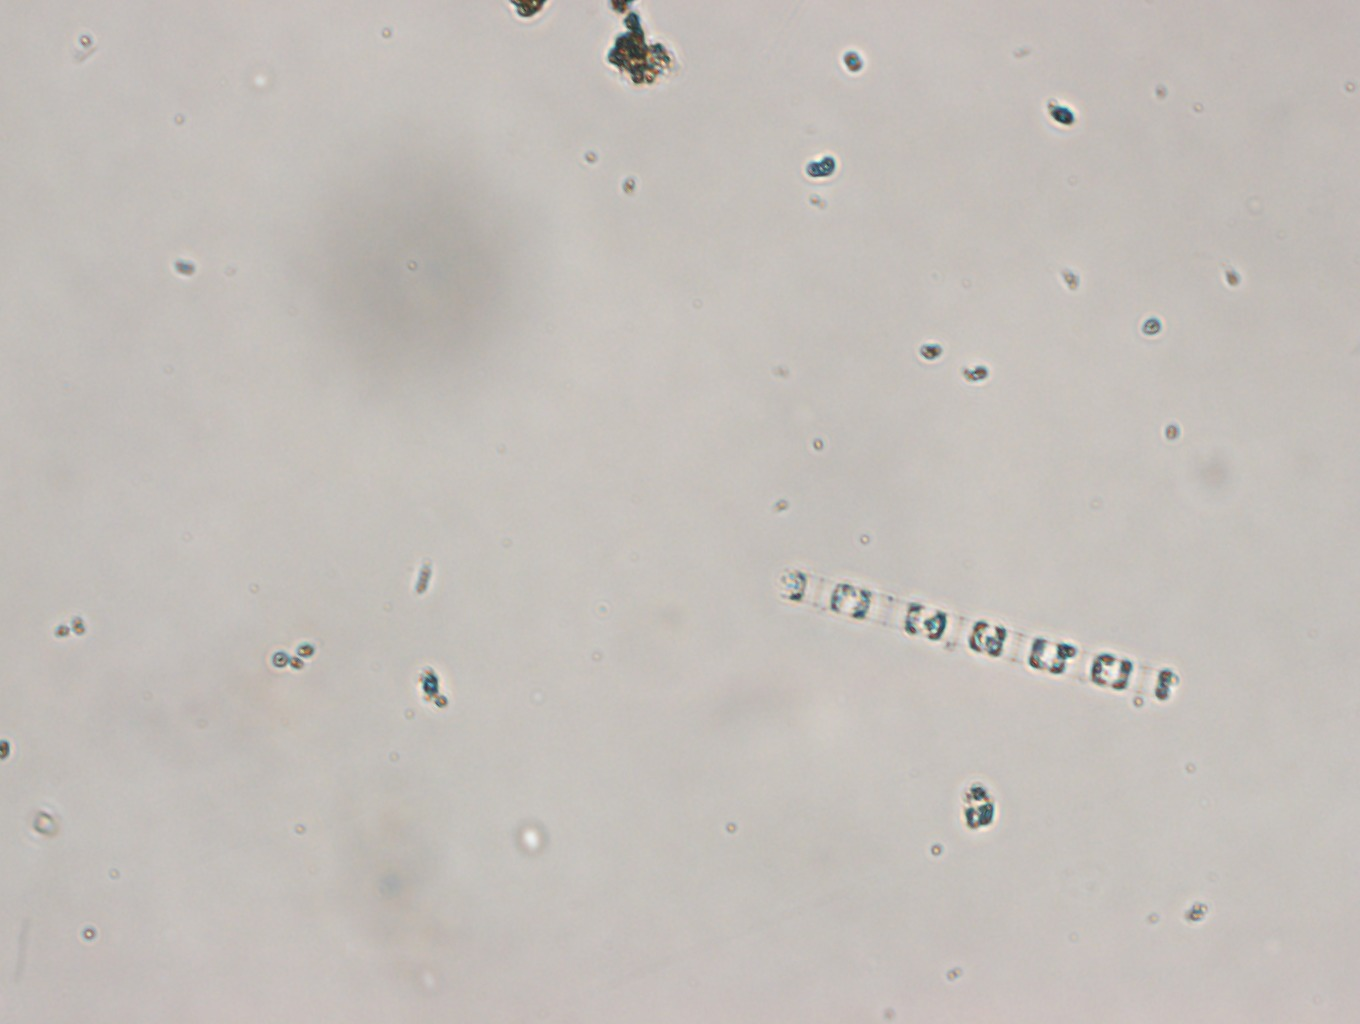skeletonema: (776, 563, 1183, 711)
